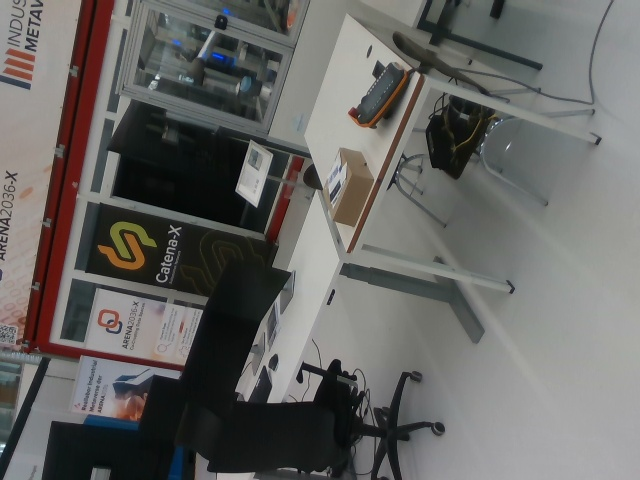Robot arm: (180, 29, 270, 106)
